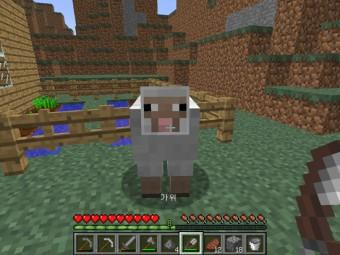sheep: (129, 85, 203, 202)
